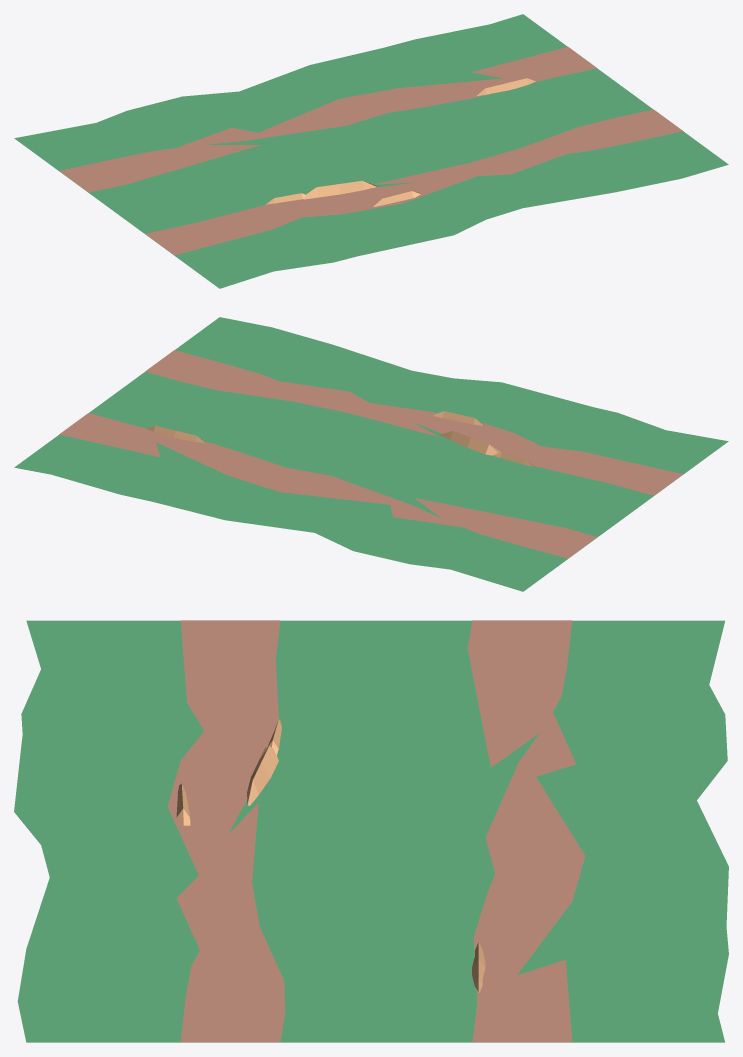
File: FarmRoadPatch_01.fbx
3 views of the same model, one above another, from view 1: azimuth 30°, elevation 25°; view 2: azimuth 150°, elevation 25°; view 3: azimuth 270°, elevation 25° (orthographic). The views are drawn at different scales.
Visible parts, largest first — view 1: FarmRoadPatch_01; view 2: FarmRoadPatch_01; view 3: FarmRoadPatch_01.
Part boxes in pixels (left/top/right/bottom): FarmRoadPatch_01: left=14, top=14, right=728, bottom=288; FarmRoadPatch_01: left=14, top=317, right=728, bottom=591; FarmRoadPatch_01: left=14, top=620, right=728, bottom=1042.
Size of the model in its own units: 20 by 0.4171 by 14.32.
